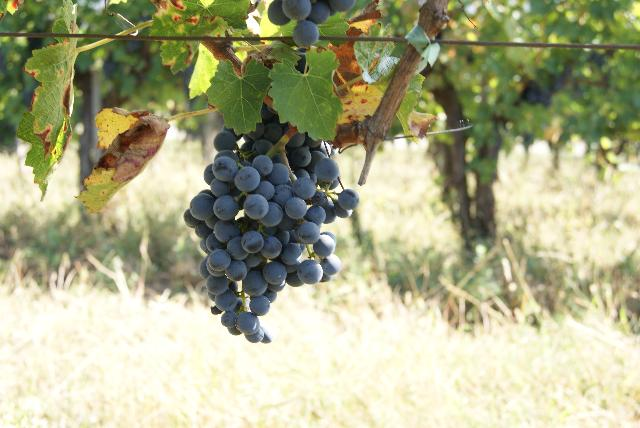grapes: (184, 151, 359, 342)
